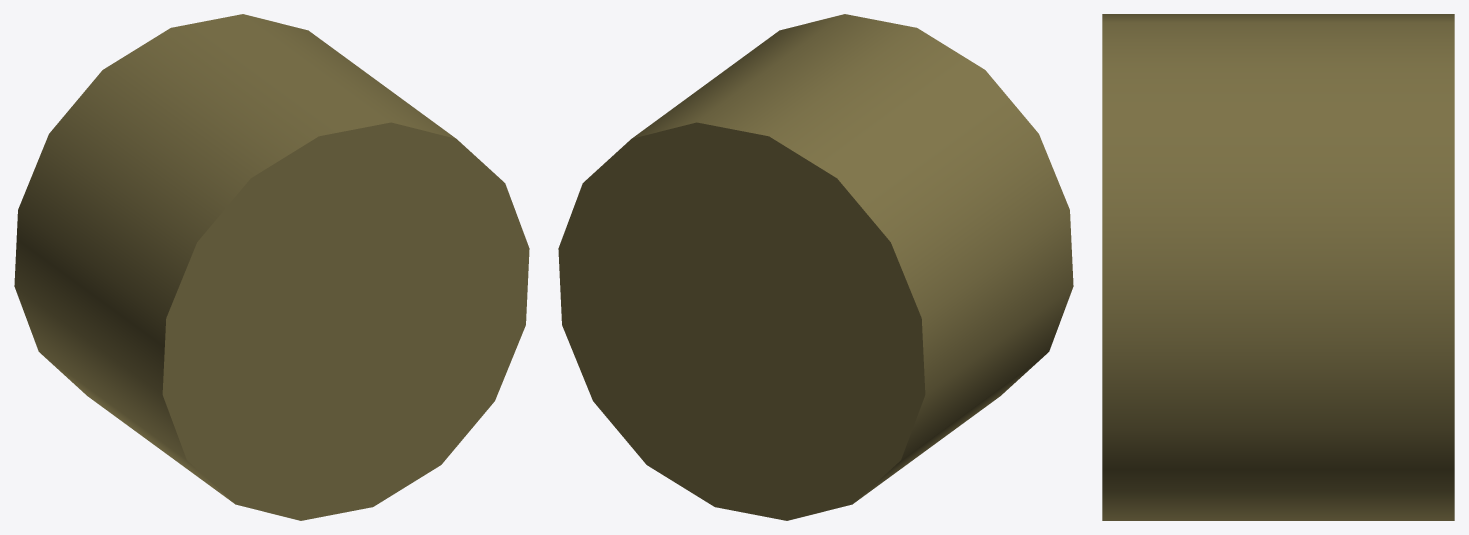
The model's file is Lever_Special_02_Pictures.fbx.
The picture shows the model from 3 angles, left to right: view 1: azimuth 30°, elevation 25°; view 2: azimuth 150°, elevation 25°; view 3: azimuth 270°, elevation 25°; orthographic projection. The views are drawn at different scales.
Parts seen in each view (by area): view 1: Lever_Special_02_Pictures; view 2: Lever_Special_02_Pictures; view 3: Lever_Special_02_Pictures.
Boxes of the visible parts, box(x1,y1,x2,y2) form: Lever_Special_02_Pictures: box(14, 14, 529, 520); Lever_Special_02_Pictures: box(558, 14, 1073, 520); Lever_Special_02_Pictures: box(1102, 14, 1454, 520).
Size of the model in its own units: 9.34 by 9.34 by 6.53.
